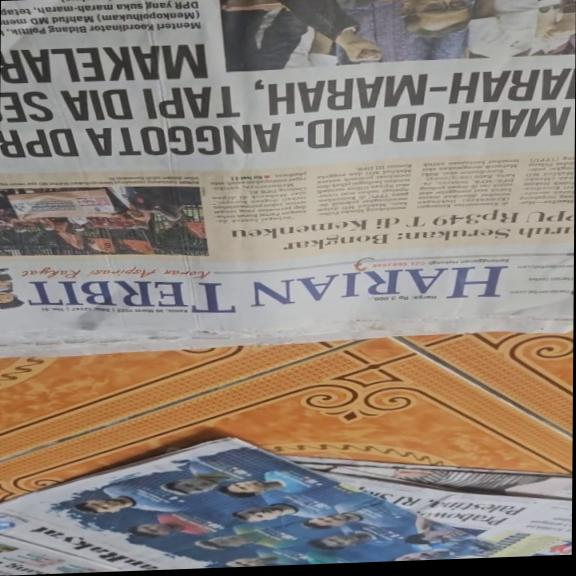Kertas: (10, 0, 570, 344), (3, 430, 376, 574), (302, 452, 572, 564)
